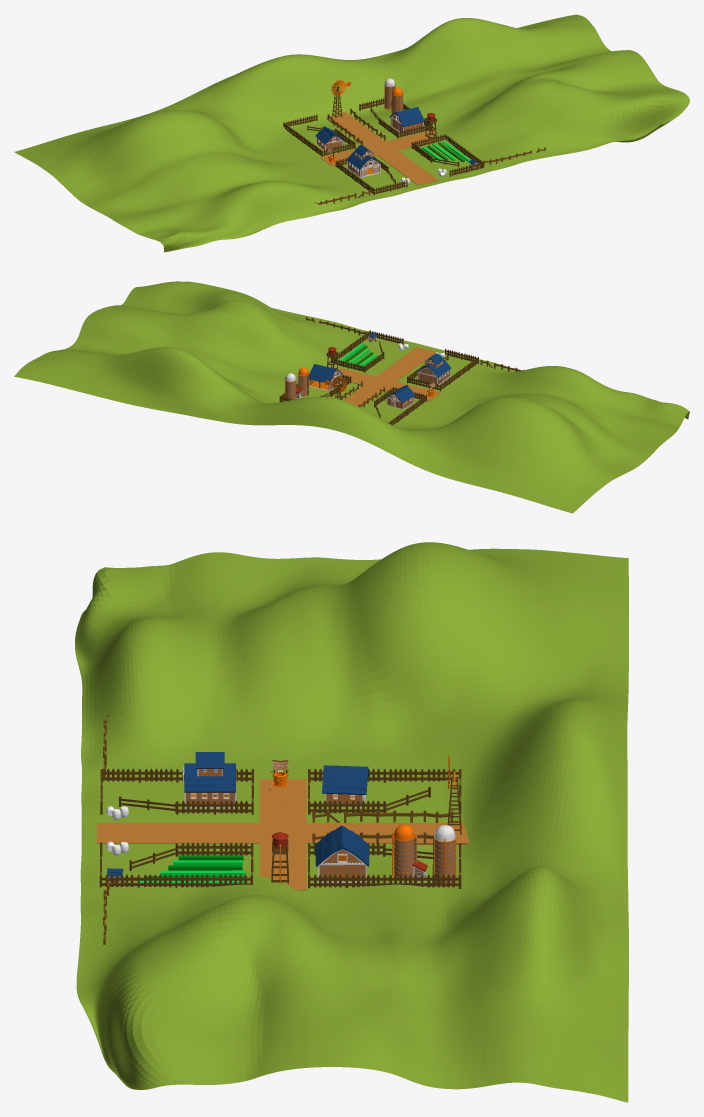
File: farm.glb
3 renders of one model, top to bottom at view 1: azimuth 30°, elevation 25°; view 2: azimuth 150°, elevation 25°; view 3: azimuth 270°, elevation 25°, orthographic. The views are drawn at different scales.
Visible parts, largest first — view 1: Plane, Object_6, Object_10, Object_9, Object_16, Object_17, Object_18; view 2: Plane, Object_6, Object_10, Object_9, Object_16, Object_17, Object_18; view 3: Plane, Object_6, Object_10, Object_9, Object_17, Object_16, Object_18, Object_12.
Part boxes in pixels (x1=…): Plane: x1=14, y1=14, x2=689, y2=252; Object_6: x1=320, y1=111, x2=438, y2=185; Object_10: x1=283, y1=114, x2=483, y2=195; Object_9: x1=332, y1=82, x2=483, y2=195; Object_16: x1=317, y1=86, x2=477, y2=176; Object_17: x1=315, y1=106, x2=477, y2=169; Object_18: x1=316, y1=78, x2=477, y2=177; Plane: x1=14, y1=281, x2=689, y2=513; Object_6: x1=338, y1=347, x2=440, y2=407; Object_10: x1=308, y1=330, x2=477, y2=425; Object_9: x1=279, y1=330, x2=478, y2=407; Object_16: x1=285, y1=336, x2=449, y2=408; Object_17: x1=308, y1=332, x2=451, y2=402; Object_18: x1=285, y1=336, x2=450, y2=409; Plane: x1=75, y1=542, x2=628, y2=1102; Object_6: x1=96, y1=779, x2=469, y2=890; Object_10: x1=99, y1=760, x2=461, y2=888; Object_9: x1=100, y1=761, x2=461, y2=888; Object_17: x1=107, y1=752, x2=369, y2=876; Object_16: x1=110, y1=761, x2=455, y2=883; Object_18: x1=108, y1=767, x2=455, y2=882; Object_12: x1=186, y1=765, x2=365, y2=881.
Bounding box in the file's own units: 73.02 × 7.67 × 31.35.
